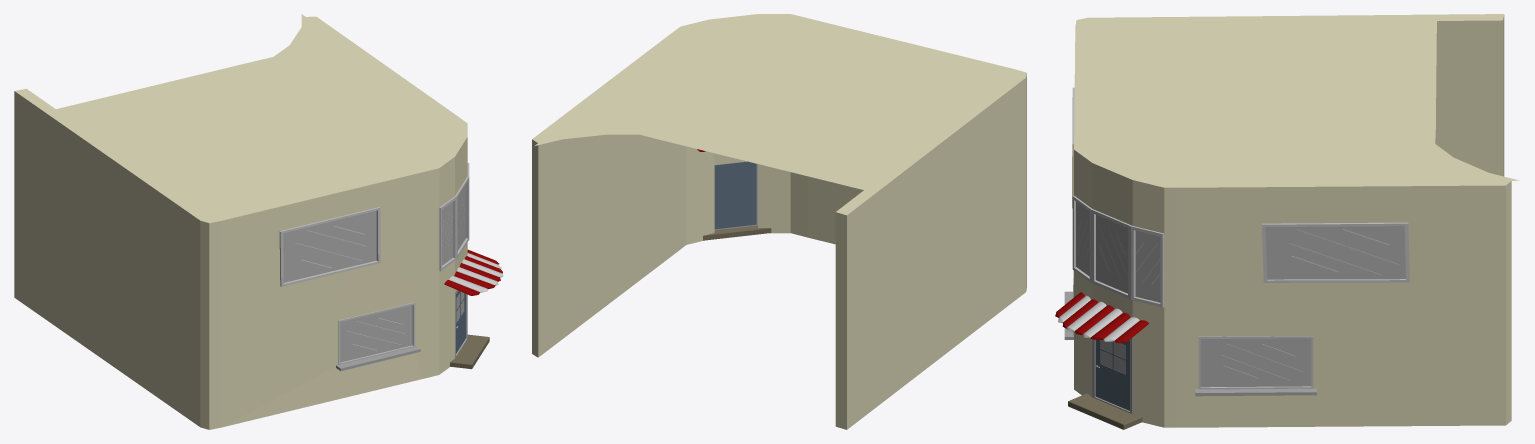
File: corner shop.fbx
3 renders of one model, left to right at view 1: azimuth 30°, elevation 25°; view 2: azimuth 150°, elevation 25°; view 3: azimuth 270°, elevation 25°, orthographic. The views are drawn at different scales.
Parts seen in each view (by area): view 1: pCube12; view 2: pCube12; view 3: pCube12.
Boxes of the visible parts, box(x1,y1,x2,y2) form: pCube12: box(14, 14, 503, 429); pCube12: box(532, 14, 1026, 429); pCube12: box(1055, 14, 1519, 429).
Size of the model in its own units: 10.82 by 6.72 by 11.81.
8 materials, 1 textured.
